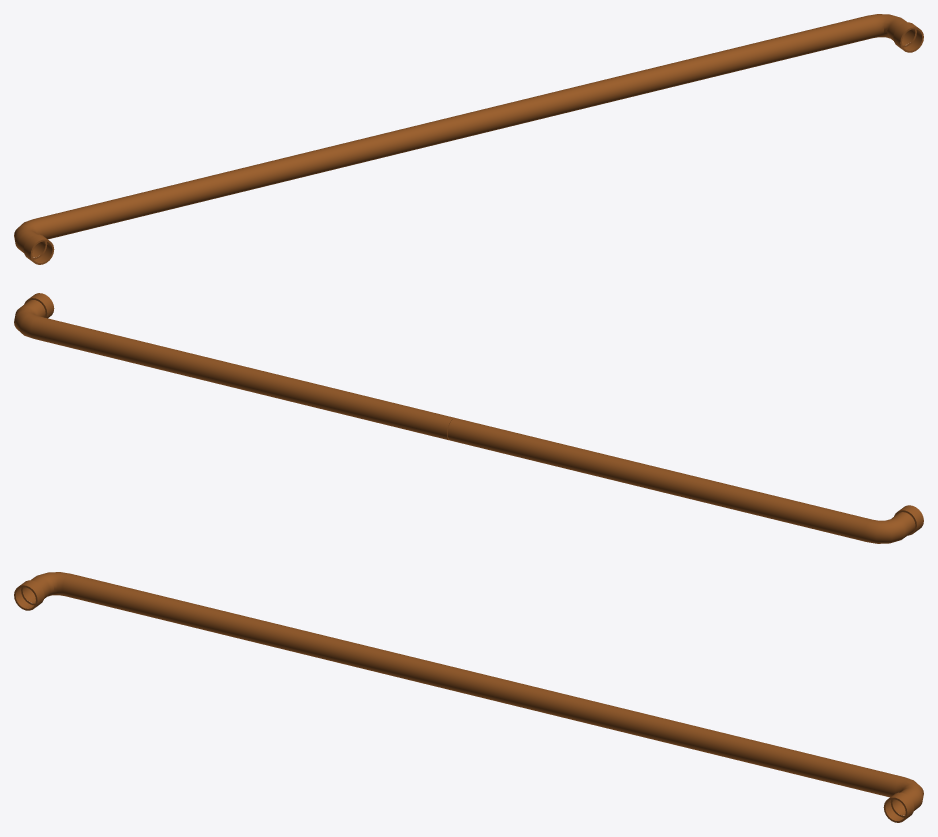
The model's file is 11_TuboPared_01.fbx.
3 renders of one model, top to bottom at view 1: azimuth 30°, elevation 25°; view 2: azimuth 150°, elevation 25°; view 3: azimuth 330°, elevation 25°, orthographic.
Parts seen in each view (by area): view 1: TuboPared_01; view 2: TuboPared_01; view 3: TuboPared_01.
Part boxes in pixels (box(x1,y1,x2,y2)): TuboPared_01: box(14, 14, 923, 264); TuboPared_01: box(14, 293, 923, 543); TuboPared_01: box(14, 572, 923, 822).
Size of the model in its own units: 2900 by 76.78 by 169.
